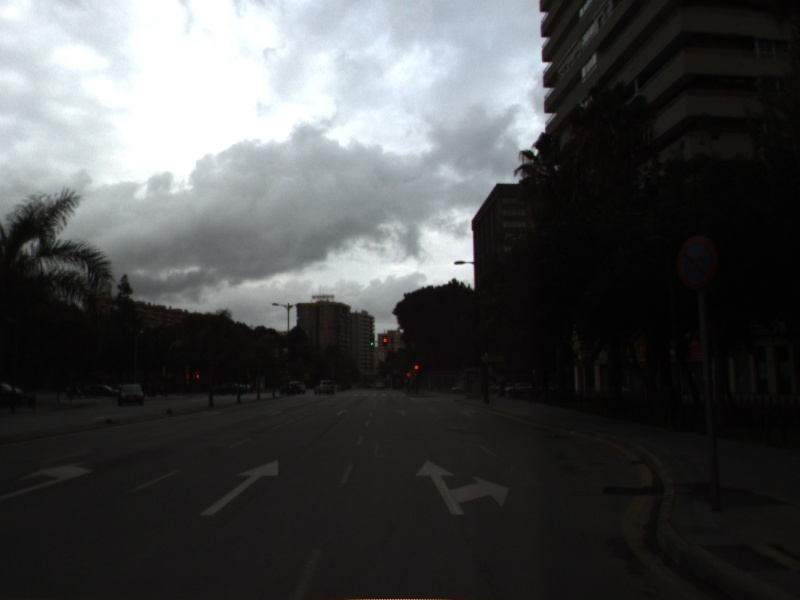LEFT: (1, 459, 96, 501)
STRAIGHT: (195, 456, 281, 519)
STRAIGHT_RIGHT: (412, 457, 514, 517)
